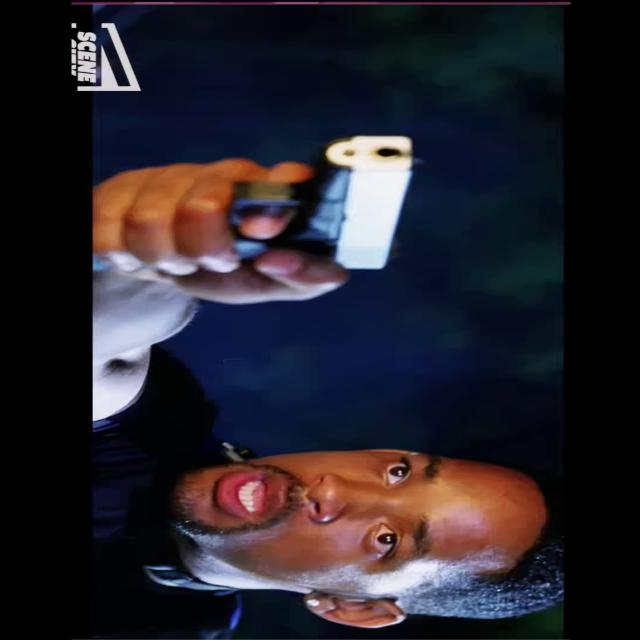weapons: (148, 124, 425, 294)
